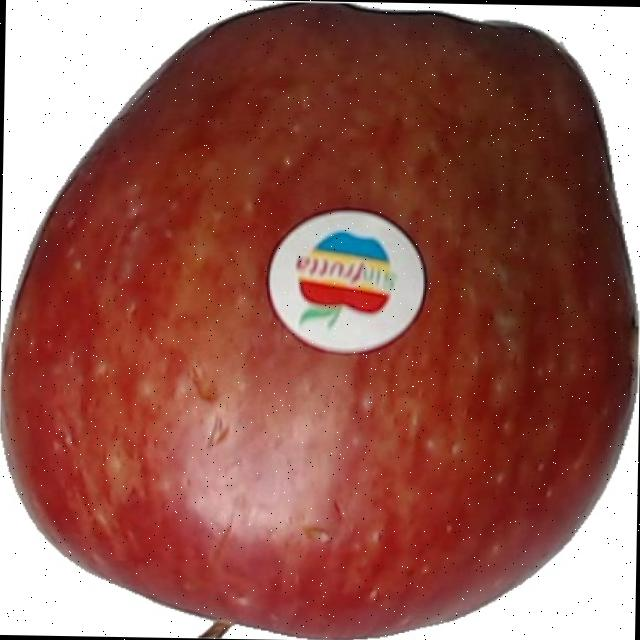apple: (2, 3, 632, 637)
